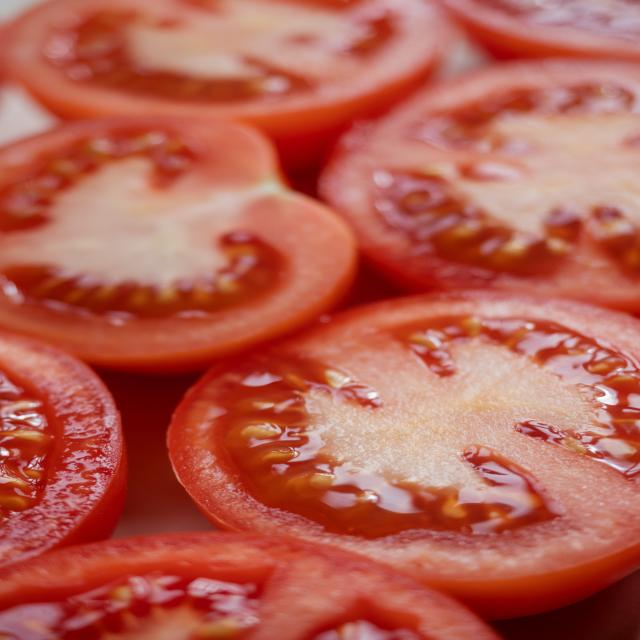Tomato: (178, 294, 640, 617), (0, 122, 348, 364)
